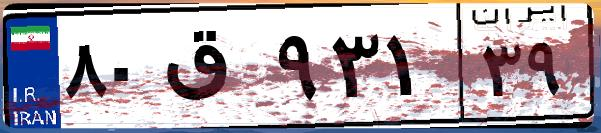0: (110, 28, 158, 98)
1: (385, 28, 445, 110)
3: (330, 28, 385, 110), (475, 38, 525, 113)
8: (57, 26, 110, 100)
9: (270, 28, 330, 110), (525, 38, 570, 115)
ق: (158, 20, 270, 120)
